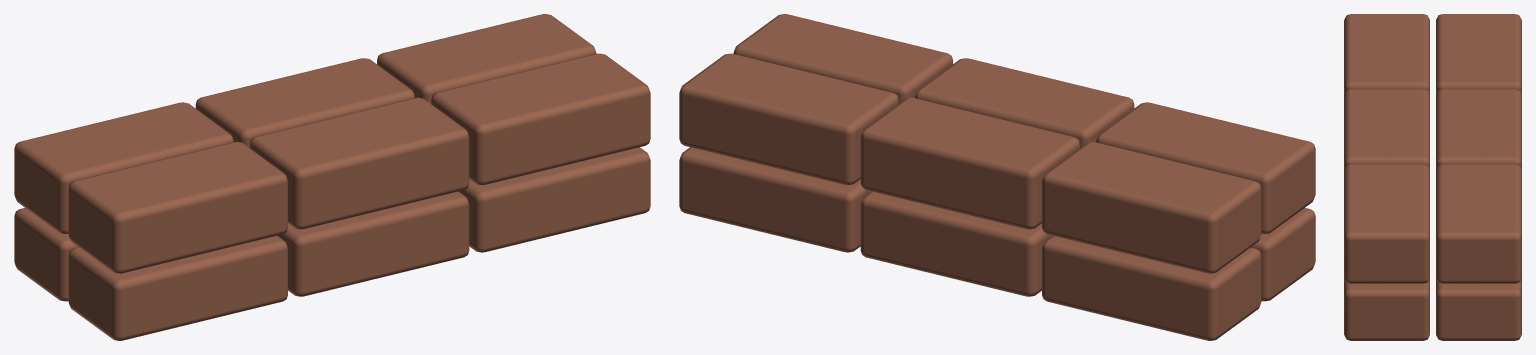
Rendered from undercity-sewers-and-thieves-den-brick-pile-223f7fd6__27218.glb.
3 views of the same model, side by side, from view 1: azimuth 30°, elevation 25°; view 2: azimuth 150°, elevation 25°; view 3: azimuth 270°, elevation 25° (orthographic). The views are drawn at different scales.
Visible parts, largest first — view 1: brick-pile; view 2: brick-pile; view 3: brick-pile.
Part boxes in pixels (x1=…): brick-pile: x1=14, y1=14, x2=650, y2=340; brick-pile: x1=679, y1=14, x2=1315, y2=340; brick-pile: x1=1344, y1=14, x2=1521, y2=340.
Size of the model in its own units: 0.92 by 0.21 by 0.31.
